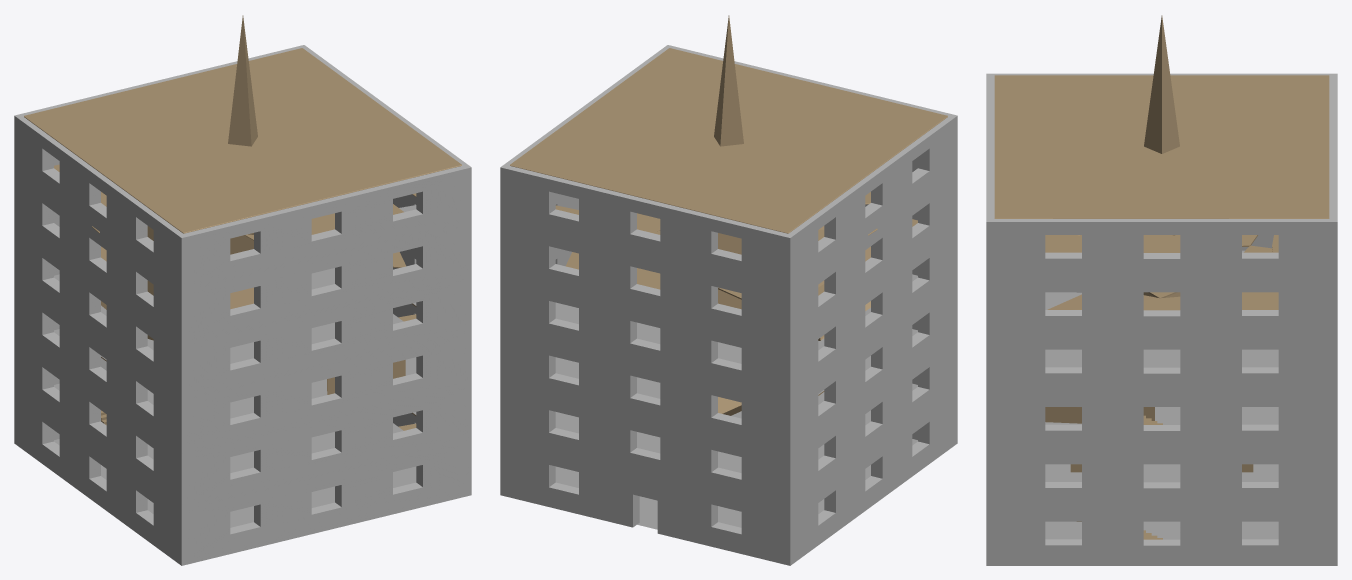
File: B1_floored.fbx
3 views of the same model, side by side, from view 1: azimuth 30°, elevation 25°; view 2: azimuth 150°, elevation 25°; view 3: azimuth 270°, elevation 25° (orthographic). The views are drawn at different scales.
Parts seen in each view (by area): view 1: Floor7, Wall43, Wall31, Wall27, Wall35, Wall39, Wall23, Wall44, Wall22, Wall40, Wall28, Wall32 (+12 smaller); view 2: Floor7, Wall45, Wall33, Wall37, Wall29, Wall41, Wall24, Wall44, Wall40, Wall28, Wall22, Wall32 (+12 smaller); view 3: Floor7, Wall42, Wall26, Wall34, Wall38, Wall30, Wall21, floor4_Floor6, floor7, Floor, floor, floor5_Floor6 (+9 smaller).
Part boxes in pixels (bbox=[...]): Floor7: bbox=[24, 48, 461, 233]; Wall43: bbox=[175, 166, 471, 292]; Wall31: bbox=[175, 331, 471, 456]; Wall27: bbox=[175, 386, 471, 511]; Wall35: bbox=[175, 277, 471, 401]; Wall39: bbox=[175, 222, 471, 347]; Wall23: bbox=[175, 441, 471, 565]; Wall44: bbox=[14, 114, 193, 292]; Wall22: bbox=[14, 389, 193, 565]; Wall40: bbox=[14, 170, 193, 347]; Wall28: bbox=[14, 334, 193, 510]; Wall32: bbox=[14, 280, 190, 456]; Floor7: bbox=[510, 48, 947, 233]; Wall45: bbox=[500, 164, 796, 292]; Wall33: bbox=[500, 332, 791, 455]; Wall37: bbox=[500, 277, 791, 401]; Wall29: bbox=[500, 386, 790, 510]; Wall41: bbox=[500, 223, 792, 347]; Wall24: bbox=[500, 441, 791, 565]; Wall44: bbox=[778, 114, 957, 292]; Wall40: bbox=[778, 170, 957, 347]; Wall28: bbox=[778, 335, 957, 511]; Wall22: bbox=[778, 389, 957, 565]; Wall32: bbox=[778, 280, 957, 456]; Floor7: bbox=[994, 75, 1329, 218]; Wall42: bbox=[986, 216, 1337, 279]; Wall26: bbox=[986, 451, 1337, 508]; Wall34: bbox=[986, 336, 1337, 393]; Wall38: bbox=[986, 279, 1337, 336]; Wall30: bbox=[986, 394, 1337, 451]; Wall21: bbox=[986, 508, 1337, 565]; floor4_Floor6: bbox=[1143, 15, 1180, 297]; floor7: bbox=[1045, 250, 1278, 367]; Floor: bbox=[1045, 521, 1278, 539]; floor: bbox=[1045, 464, 1278, 482]; floor5_Floor6: bbox=[1047, 235, 1278, 310].
Size of the model in its own units: 25.09 by 37.51 by 25.
